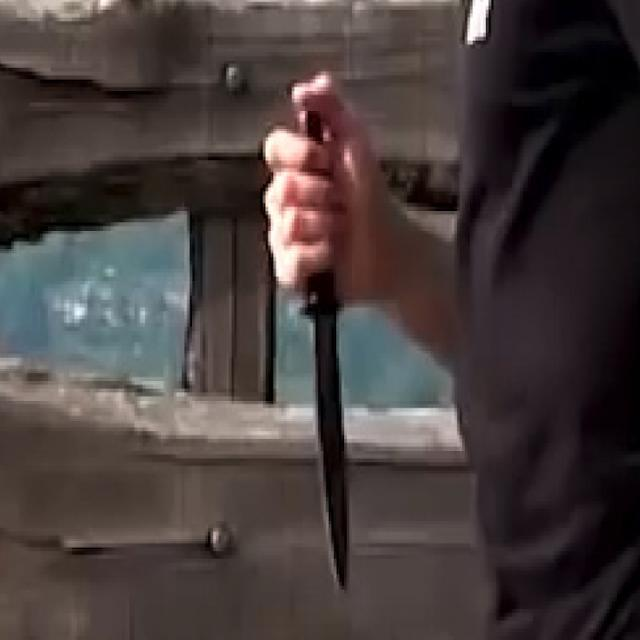suspicion: (254, 53, 628, 602), (296, 292, 354, 600)
